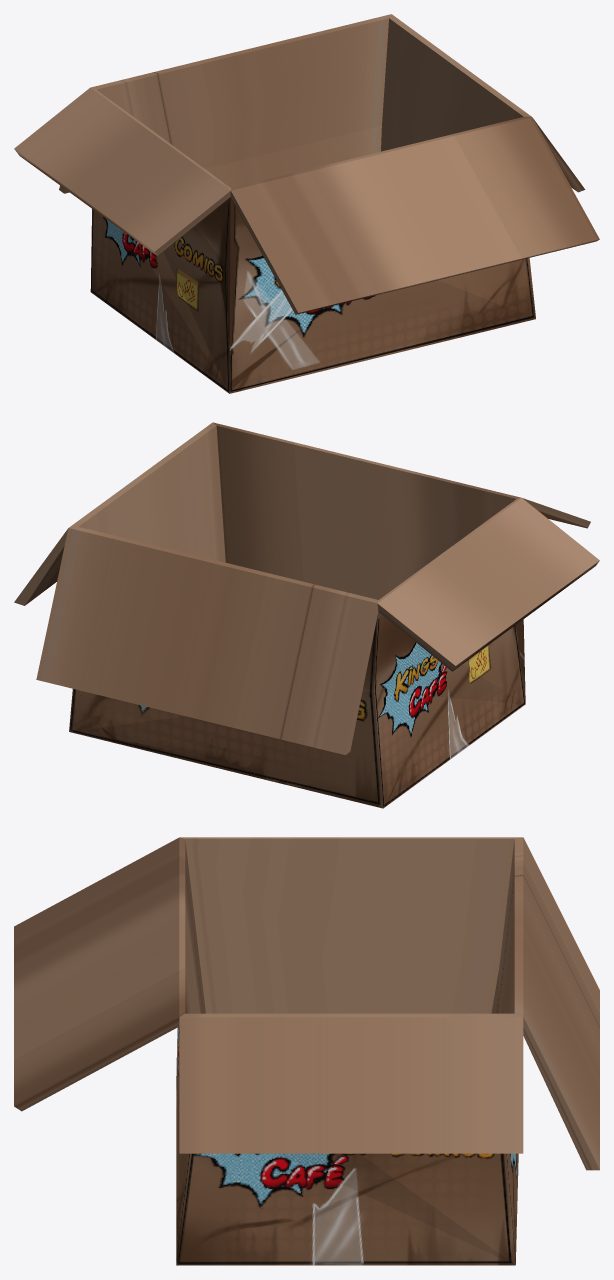
3 views of the same model, one above another, from view 1: azimuth 30°, elevation 25°; view 2: azimuth 150°, elevation 25°; view 3: azimuth 270°, elevation 25° (orthographic). The views are drawn at different scales.
Parts seen in each view (by area): view 1: pCube1_initialShadingGroup; view 2: pCube1_initialShadingGroup; view 3: pCube1_initialShadingGroup.
Boxes of the visible parts, x1,y1,x2,y2 form: pCube1_initialShadingGroup: (14,14,599,393); pCube1_initialShadingGroup: (14,422,599,808); pCube1_initialShadingGroup: (14,837,599,1265).
Bounding box in the file's own units: 6.42 × 2.88 × 6.19.
1 material, 1 textured.
